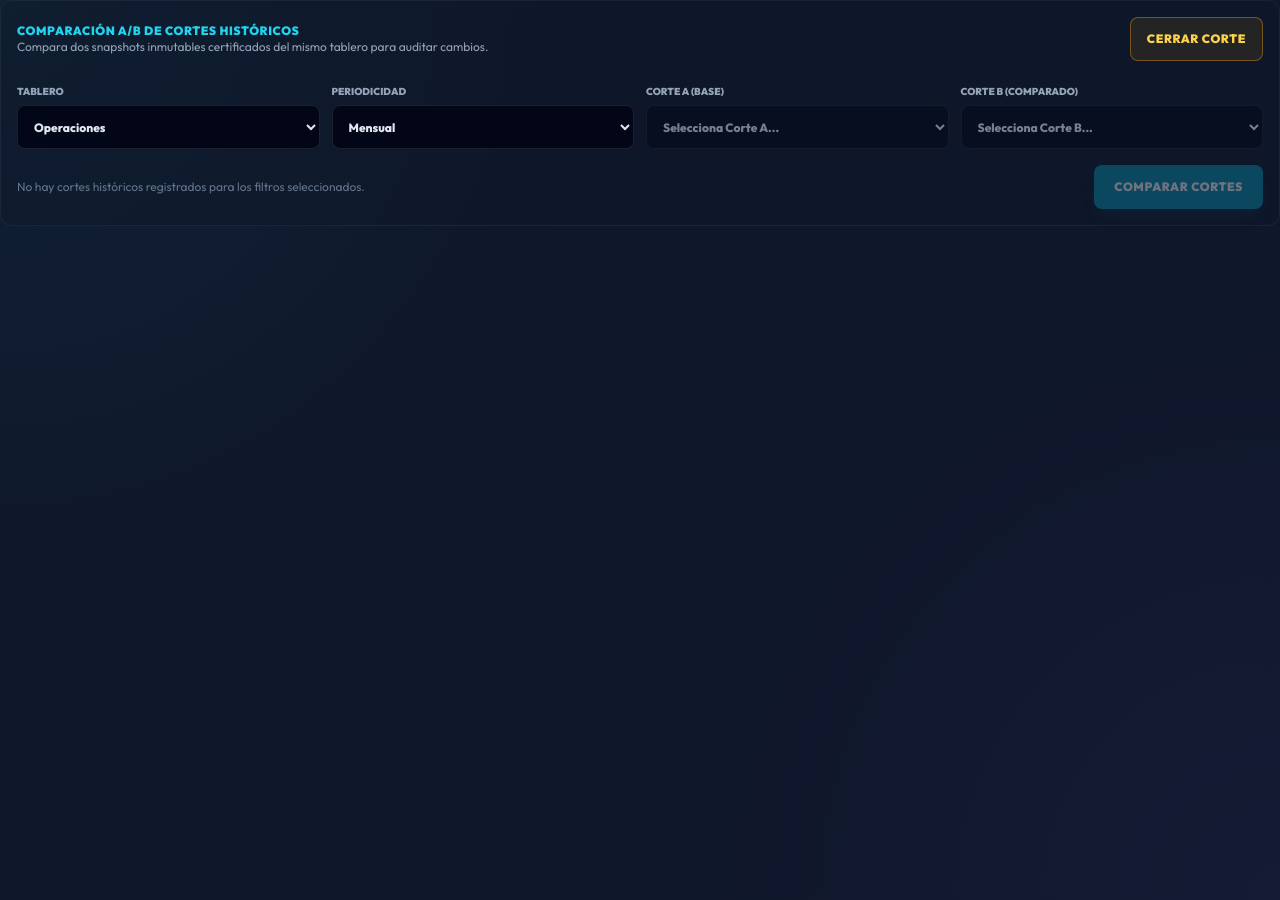
Scenario: ControlCutComparisonSection › Acción operativa: Cerrar corte › al presionar Cerrar Corte se abre modal con advertencia irreversible y datos del tablero
Click the button "Cerrar Corte".
click(1196, 39)  # box [1130, 17, 1263, 61]
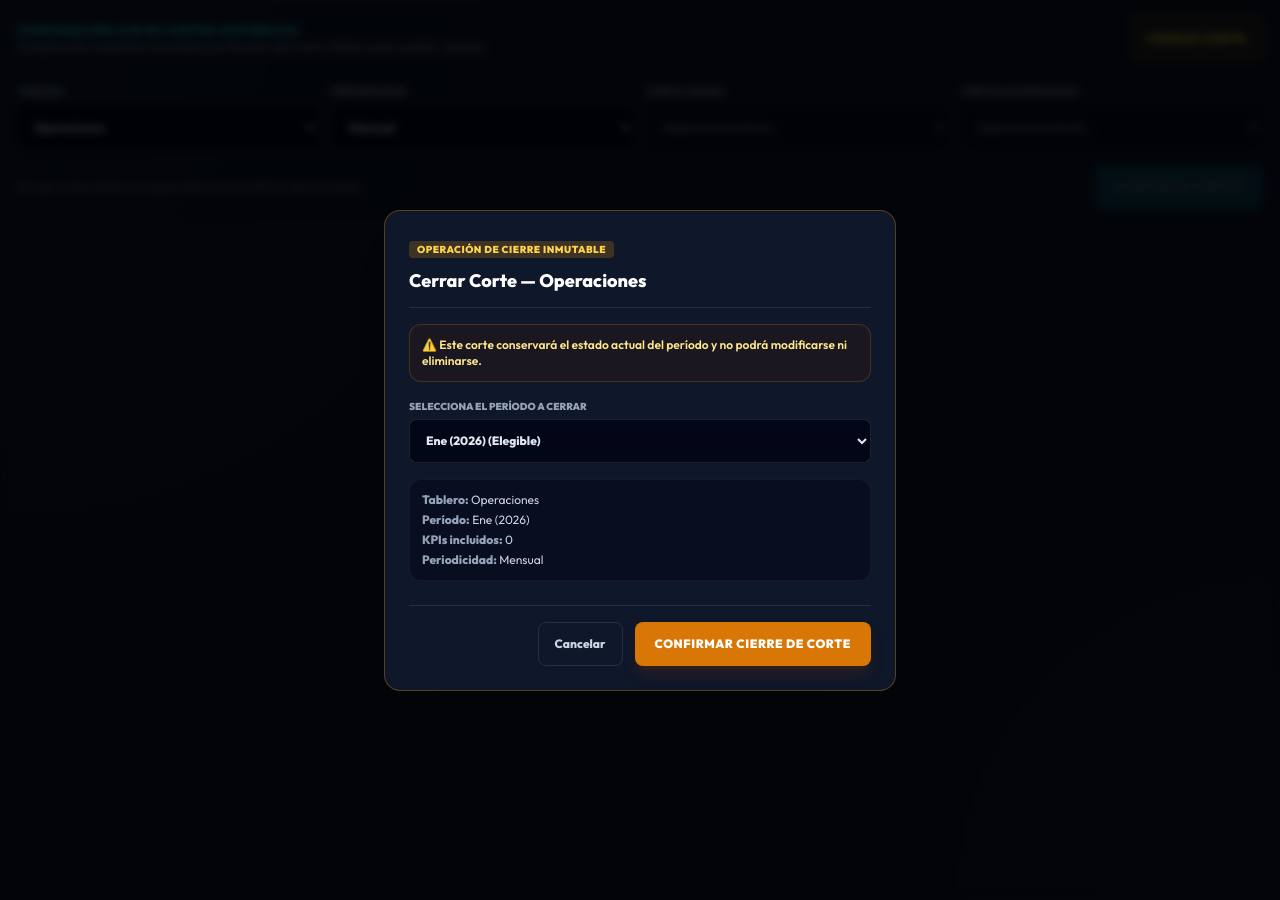
Check: the dialog is shown
Check: the text "Operación de Cierre Inmutable" is shown, box [409, 240, 614, 258]
Check: the text "Este corte conservará el estado actual del período y no podrá modificarse ni eliminarse" is shown, box [422, 336, 847, 368]
